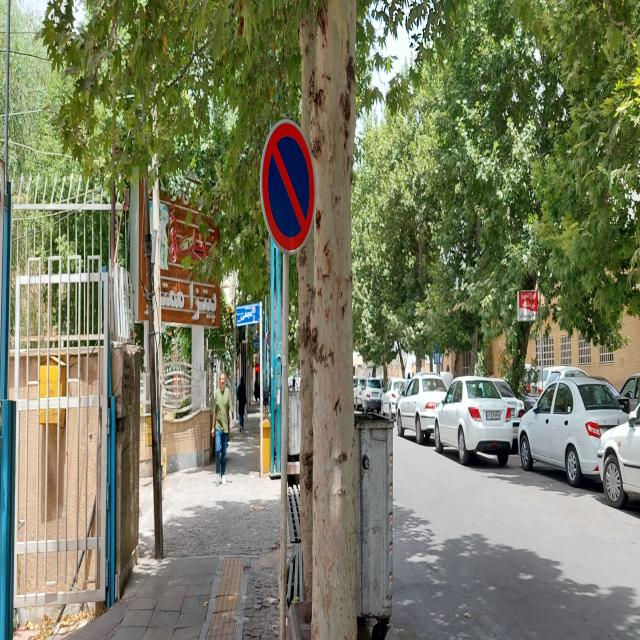forb_stopping: (259, 119, 316, 253)
